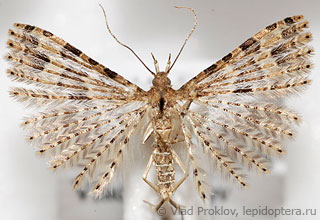Alucitidae: (1, 4, 315, 218)
moth: (3, 6, 317, 220)
